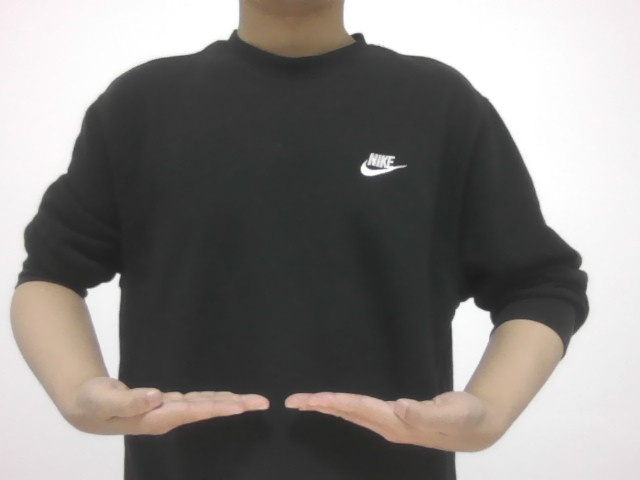today: (80, 345, 487, 464)
